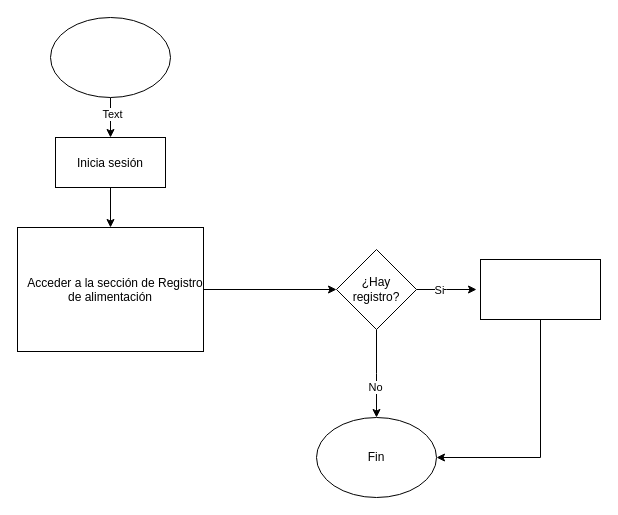
Some shapes in this 618 by 515 pixel diagram are drawn without their labels. The shapes that lost their labels are listed below. From the top down, each one's centre as x and y in pixels, then its label:
the point at 110,57: Inicio
the point at 540,289: Muestra Registro de alimentación
